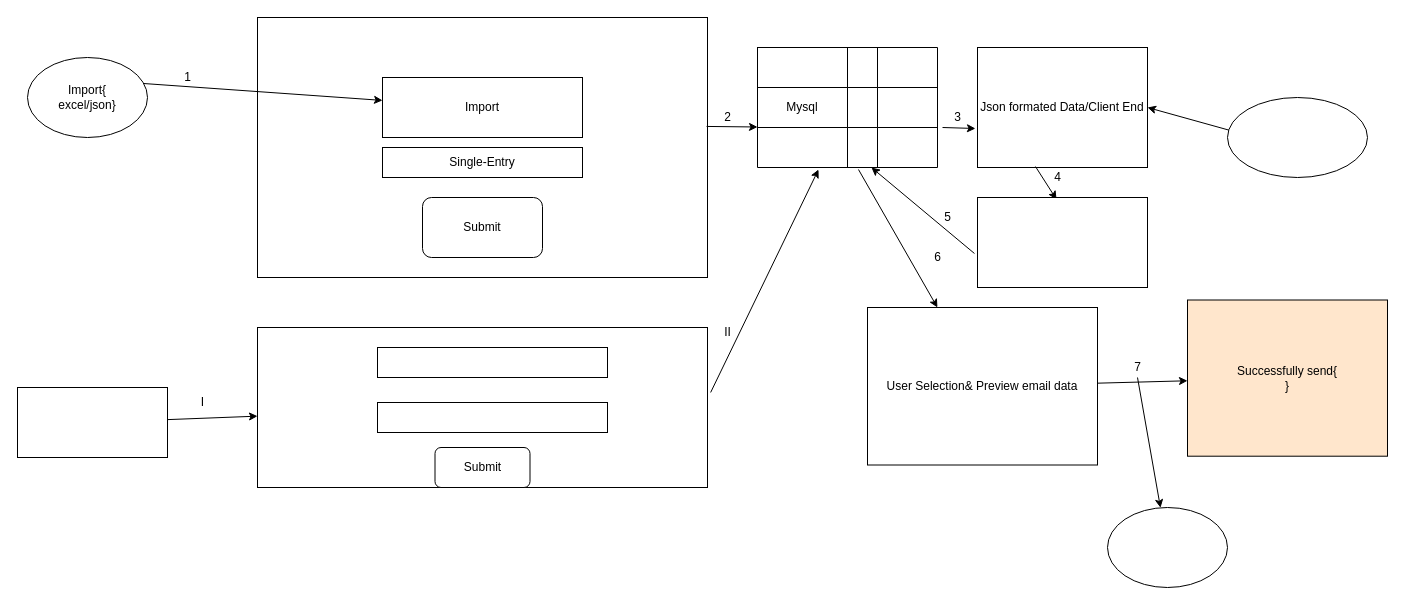
Image size: 1405x605. Some labels were removed from this diagram. The shapes that lost their labels are listed below. From the top down, each one's box as (x1, y1, x2, y2) in pixels, then its label:
(1226, 96, 1368, 178): Here We do sanitization
(976, 196, 1148, 288): Master List of Email with all details prepared and ready to store
(16, 386, 168, 458): User Preferences/Profile/ Batch detail form
(1106, 506, 1228, 588): Server will send bulk email
